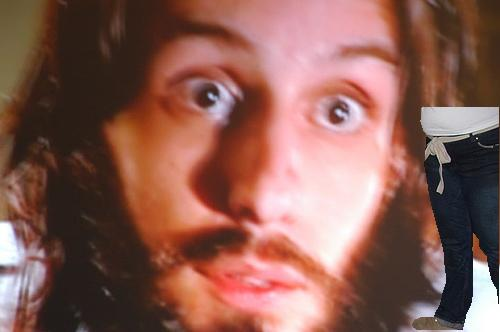tampered: (413, 108, 499, 330)
